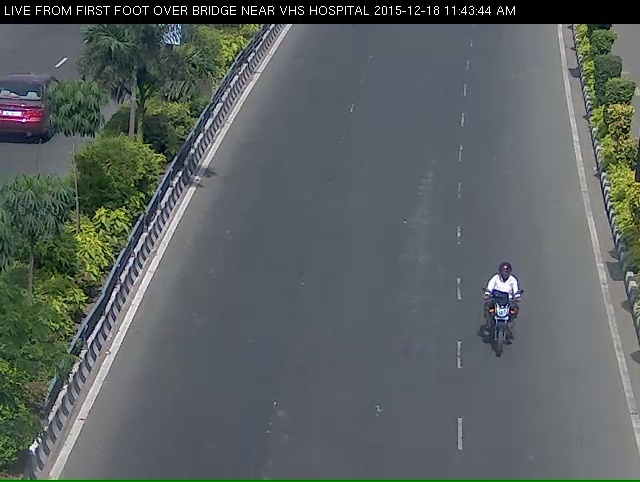Person: (468, 271, 535, 390)
